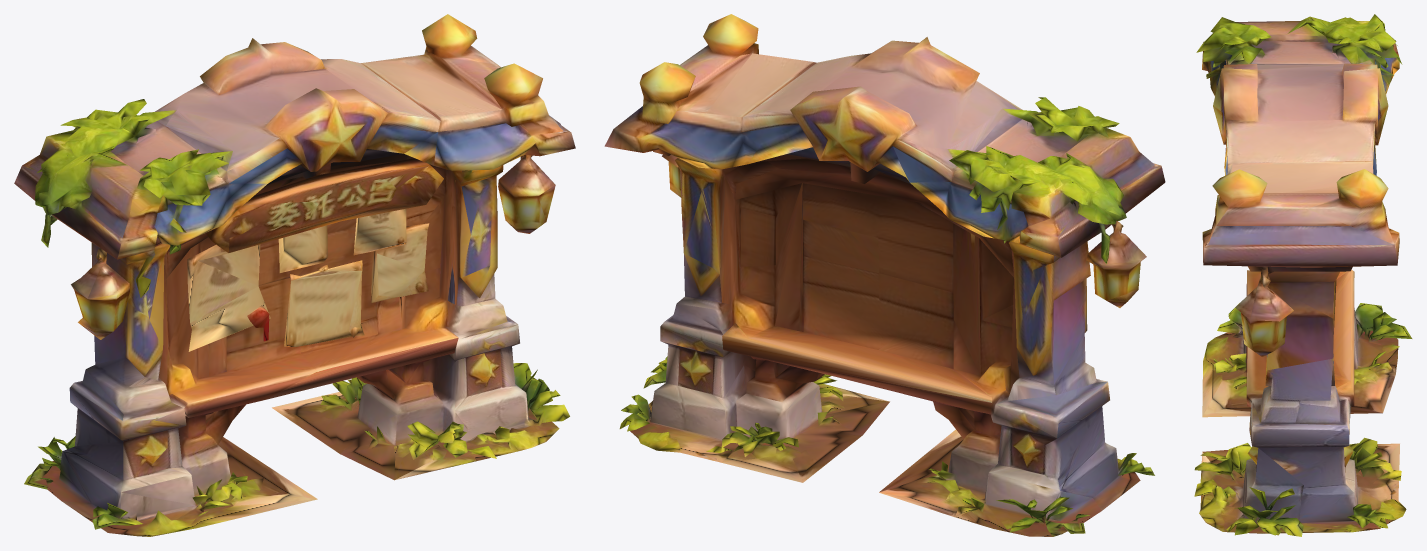
Rendered from board67_hq.glb.
3 renders of one model, left to right at view 1: azimuth 30°, elevation 25°; view 2: azimuth 150°, elevation 25°; view 3: azimuth 270°, elevation 25°, orthographic. The views are drawn at different scales.
Visible parts, largest first — view 1: QuestBoard67; view 2: QuestBoard67; view 3: QuestBoard67.
Boxes of the visible parts, bbox=[...] form: QuestBoard67: bbox=[14, 14, 575, 536]; QuestBoard67: bbox=[604, 14, 1165, 536]; QuestBoard67: bbox=[1194, 14, 1412, 536].
Bounding box in the file's own units: 3.15 × 2.35 × 1.28.
1 material, 1 textured.
